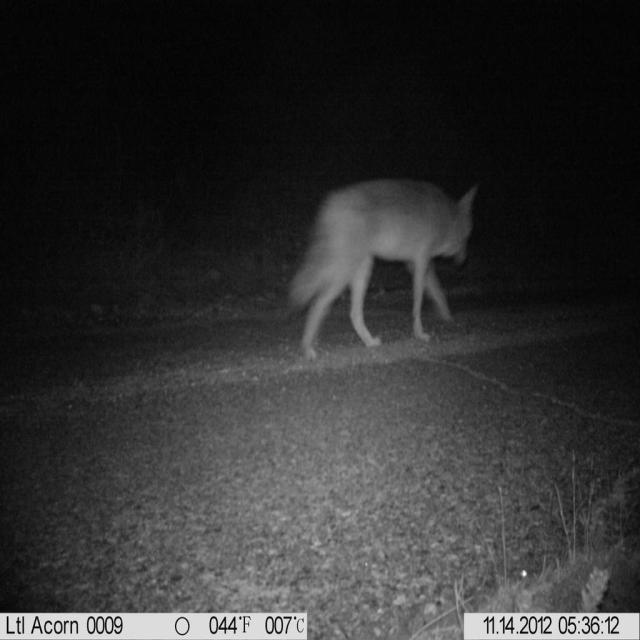coyote: (277, 166, 486, 371)
